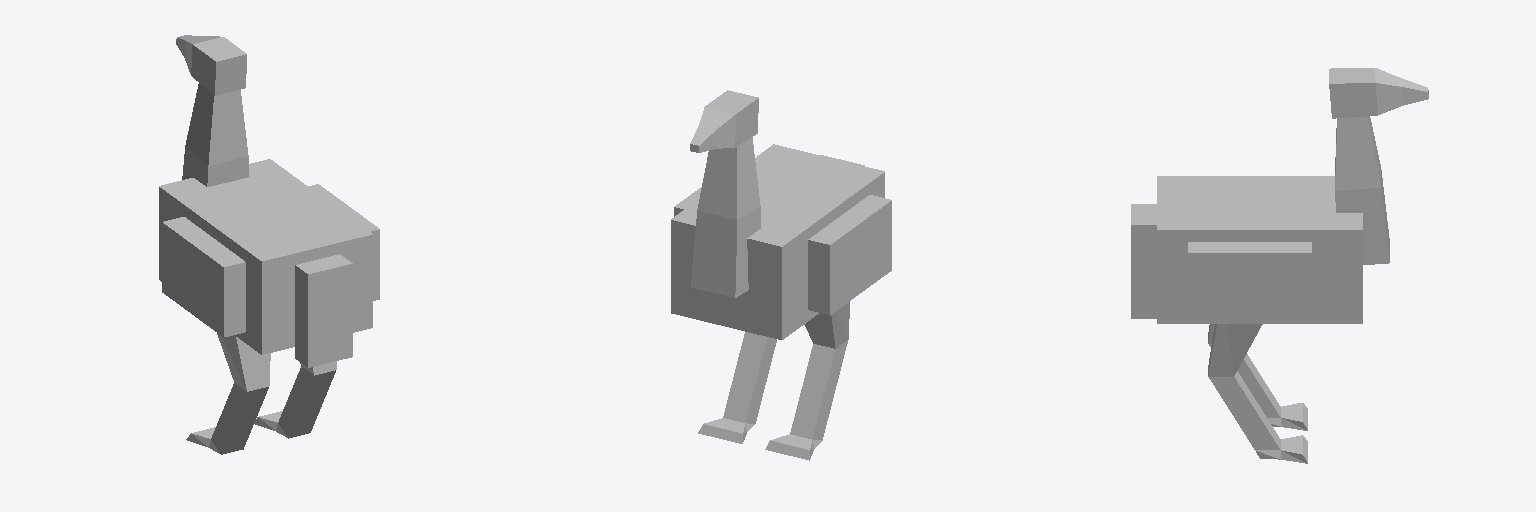
File: Ostrich_000029.obj
The picture shows the model from 3 angles: view 1: azimuth 30°, elevation 25°; view 2: azimuth 150°, elevation 25°; view 3: azimuth 270°, elevation 25°; orthographic projection.
Parts seen in each view (by area): view 1: Cube_Cube.001; view 2: Cube_Cube.001; view 3: Cube_Cube.001.
Part boxes in pixels (x1,y1,x2,y2): Cube_Cube.001: (159,35,379,454); Cube_Cube.001: (671,90,891,460); Cube_Cube.001: (1131,68,1428,463).
Bounding box in the file's own units: 0.7008 × 1.55 × 1.15.